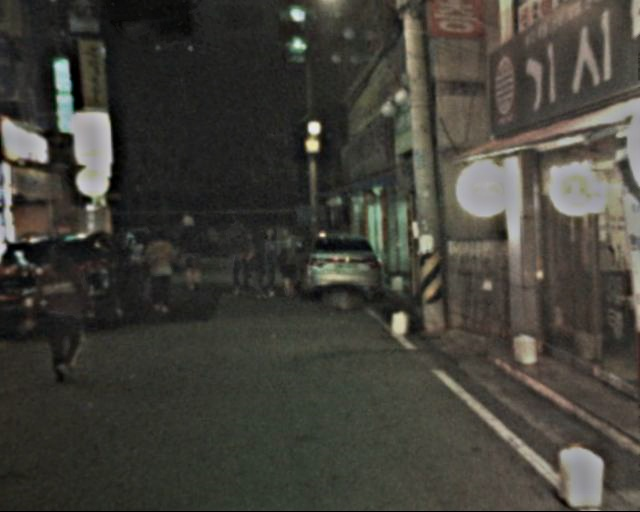person: (35, 240, 91, 379), (138, 225, 179, 309), (218, 212, 258, 293), (249, 219, 280, 301), (273, 223, 305, 298), (172, 214, 205, 284)
